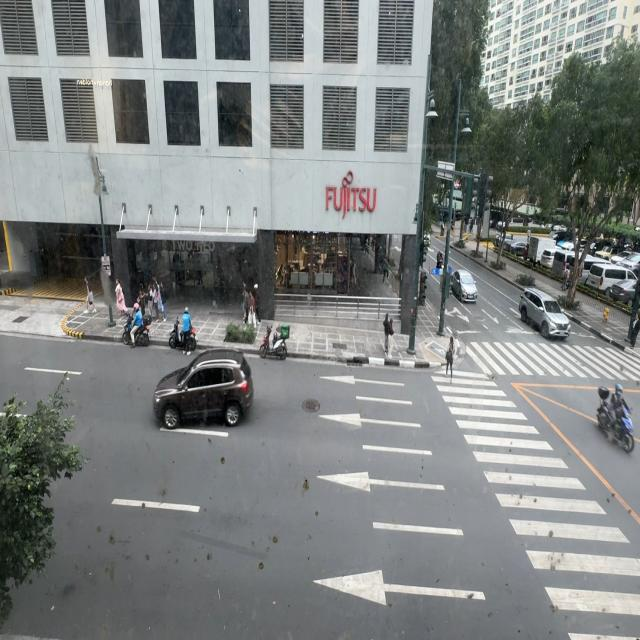crossing: (445, 336, 455, 378)
pedestrain: (84, 277, 98, 315), (116, 281, 130, 316), (248, 288, 258, 329), (156, 281, 166, 322), (138, 285, 147, 321), (152, 282, 160, 322), (242, 282, 249, 324)
waiting: (382, 312, 392, 357)
